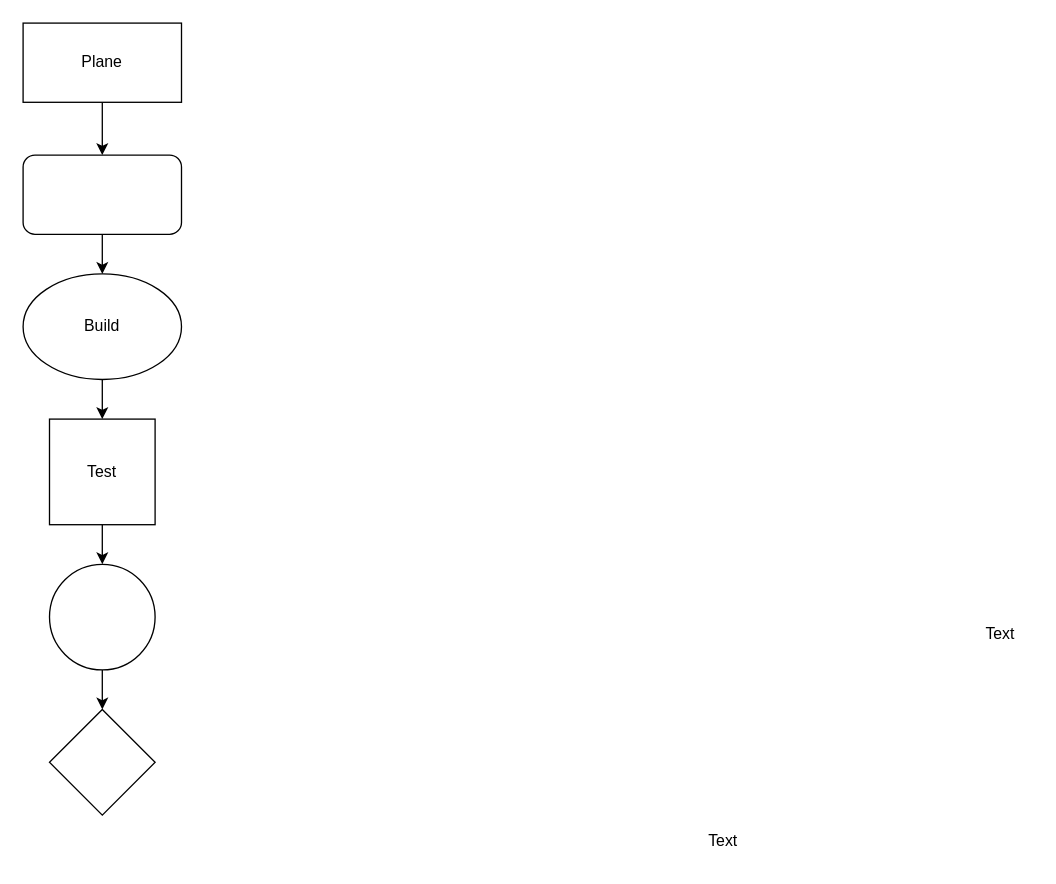
Some shapes in this 1056 by 884 pixel diagram are drawn without their labels. The shapes that lost their labels are listed below. From the top down, each one's centre as x and y in pixels, then its label:
pixel 102 194: Develop
pixel 101 616: Release
